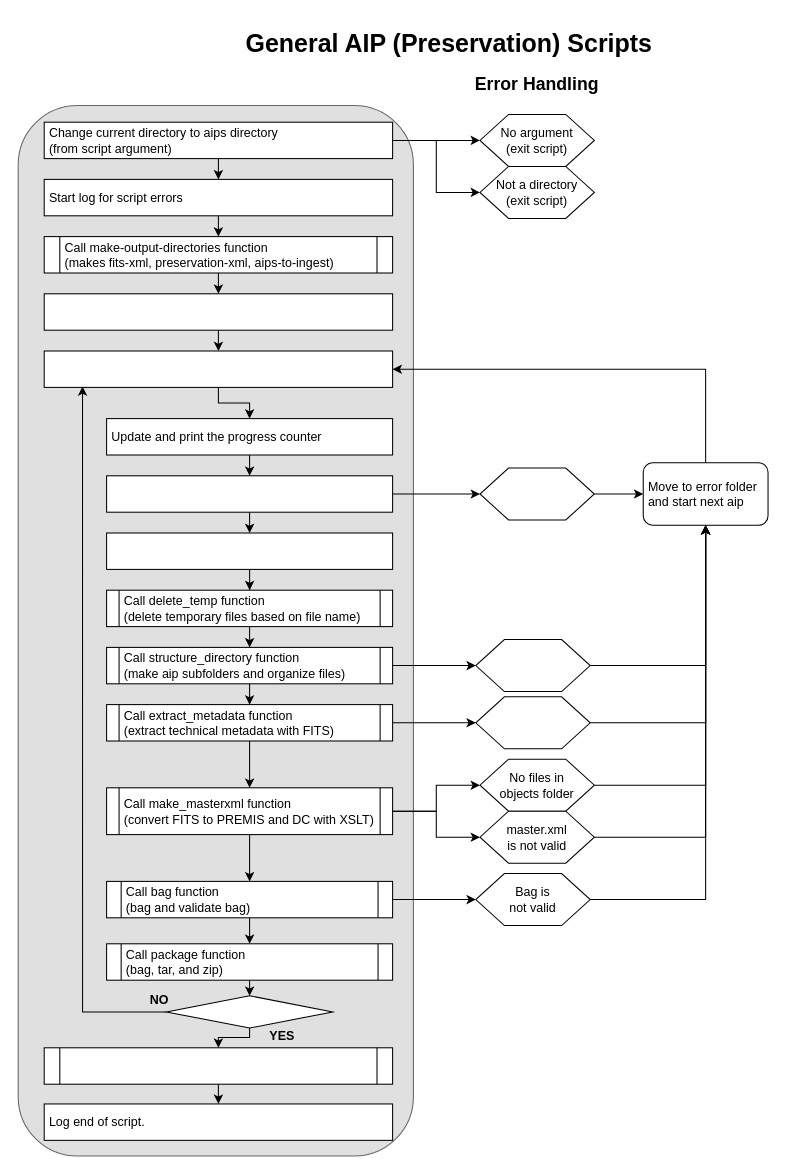
This 786x1174 diagram has some shape labels left out. The box of each missing label's shape, as (x1, y1, x2, y2) in pixels:
Call make_manifest function (make md5 manifest for each department's AIPs): (43, 1047, 393, 1084)
Can't make a folder: (475, 639, 590, 692)
Can't make combined-fits: (475, 696, 590, 749)
Folder name format error: (479, 467, 594, 520)
For every aip folder in the aips directory:: (43, 350, 393, 387)
Get the aip id, department, and aip title from the aip folder name: (106, 475, 393, 512)
Last aip?: (165, 995, 333, 1028)
Rename the aip folder to the aip id: (106, 532, 393, 569)
Start progress counter (current aip number and total aips): (43, 293, 393, 330)
